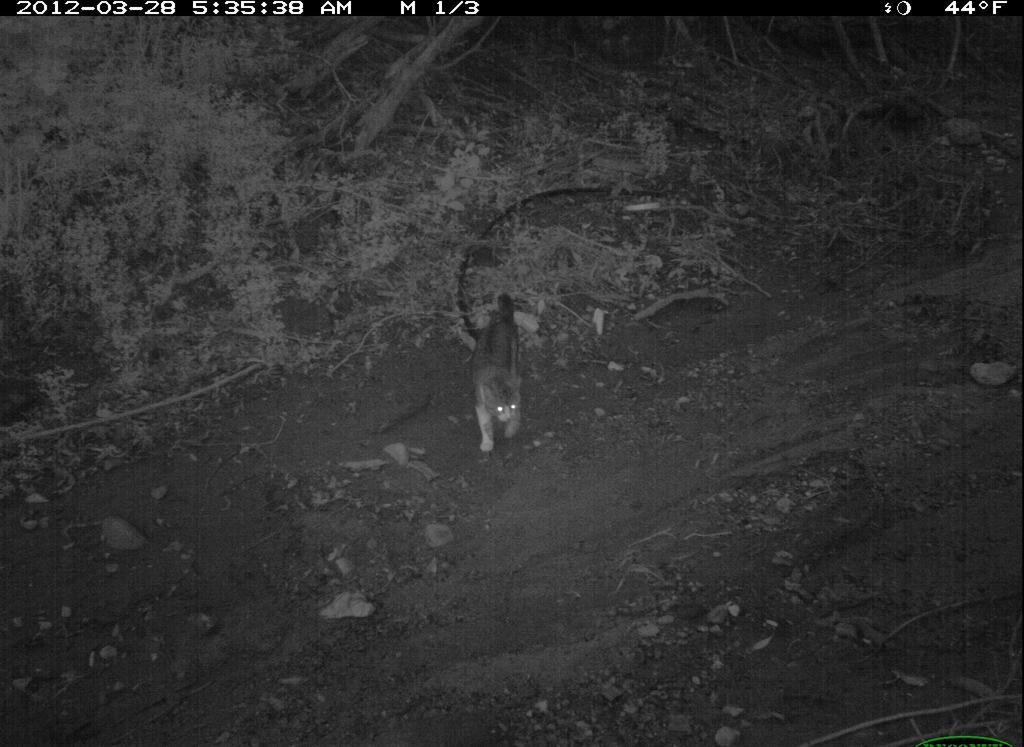cat: (451, 285, 546, 465)
